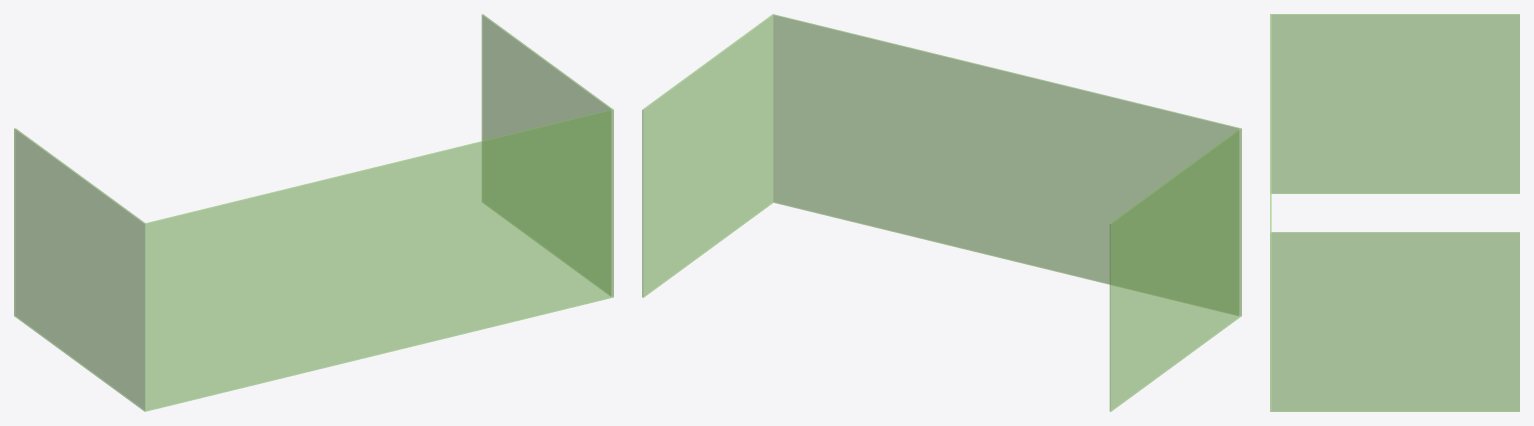
3 views of the same model, side by side, from view 1: azimuth 30°, elevation 25°; view 2: azimuth 150°, elevation 25°; view 3: azimuth 270°, elevation 25° (orthographic). The views are drawn at different scales.
Visible parts, largest first — view 1: id2; view 2: id2; view 3: id2.
Boxes of the visible parts, box(x1,y1,x2,y2) form: id2: box(14, 14, 613, 411); id2: box(642, 14, 1241, 411); id2: box(1270, 14, 1519, 411).
Bounding box in the file's own units: 0.9462 × 0.362 × 0.4572.
